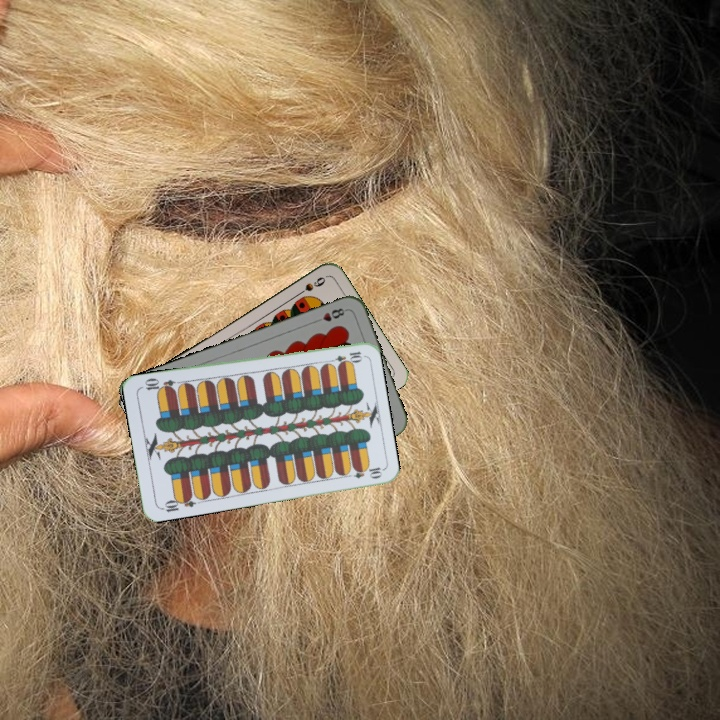E10: (157, 491, 198, 515), (324, 347, 365, 366)
H8: (310, 304, 349, 325)
S9: (292, 273, 328, 299)
